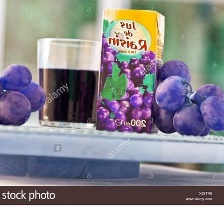carton: (92, 6, 167, 136), (33, 34, 102, 130)
